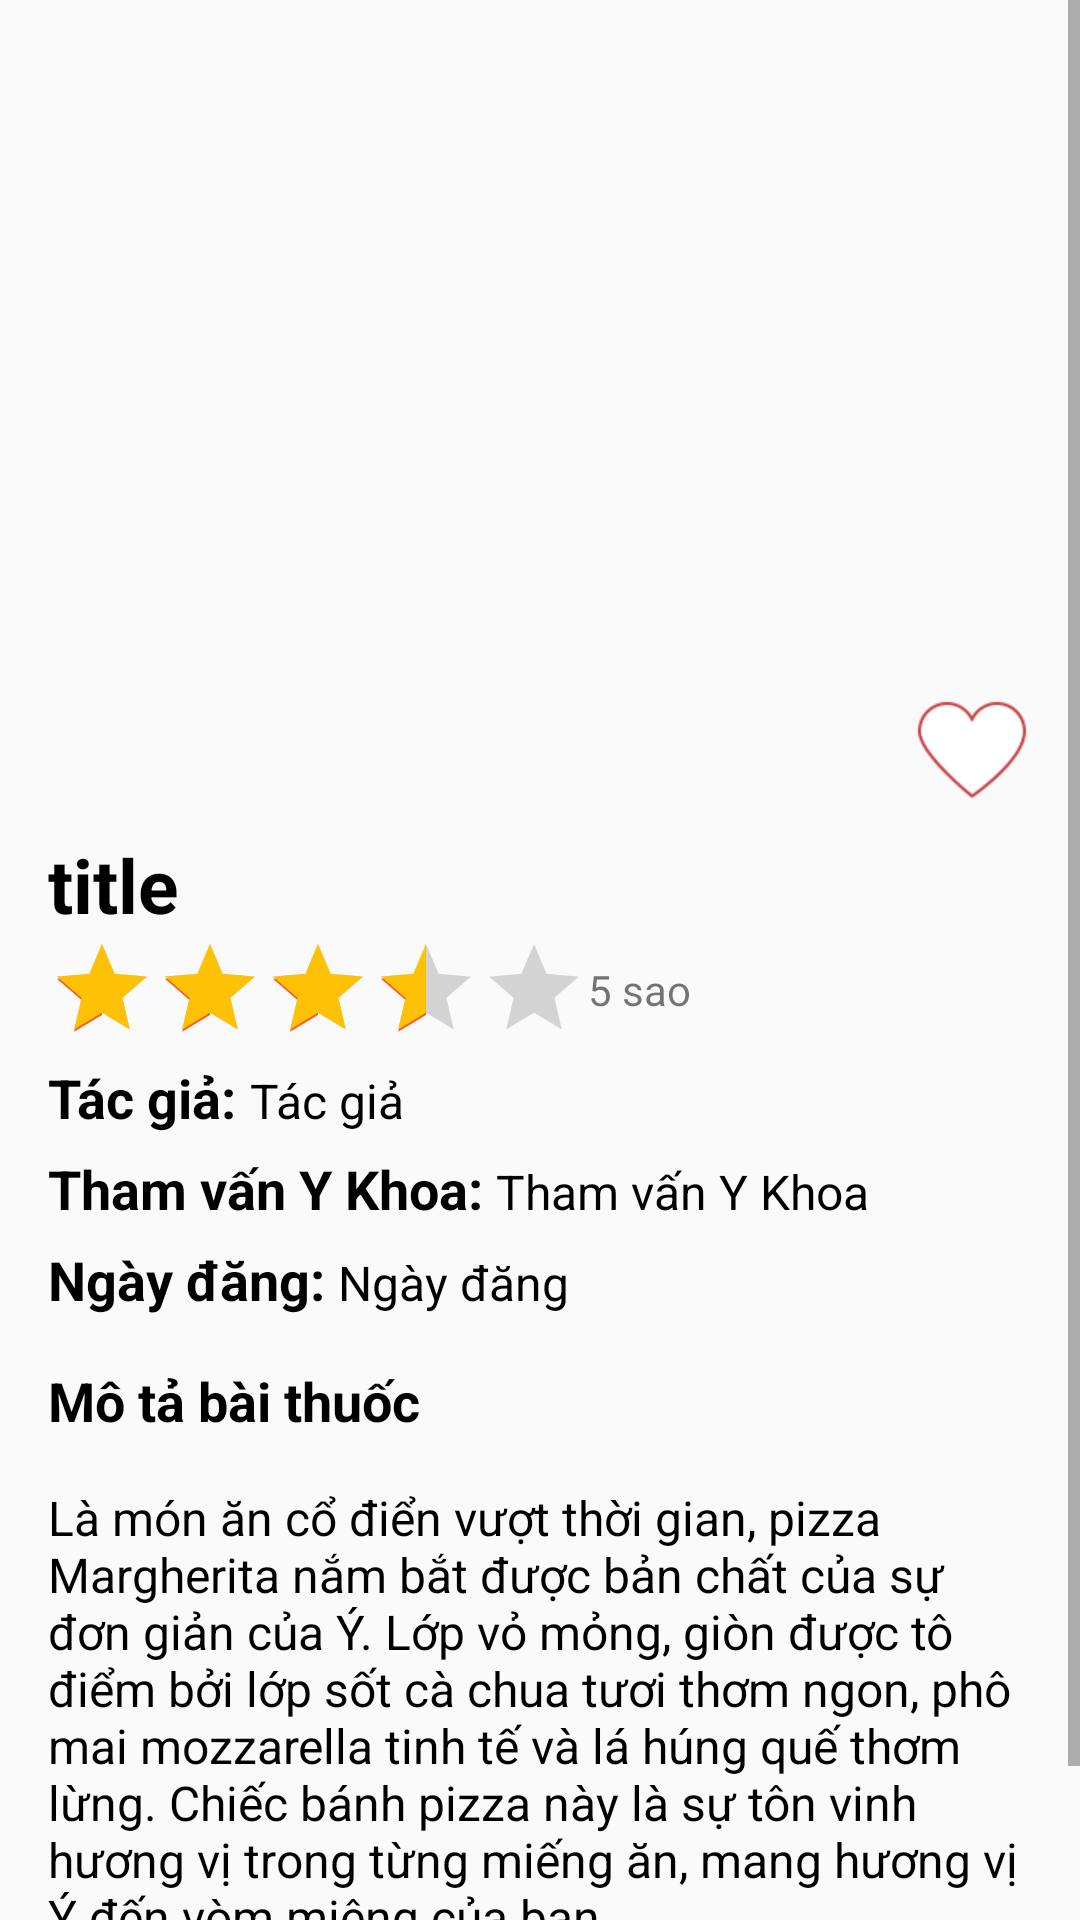

Locate icon controls on the screen. Image size 1080 × 1920, boxes as (x1, y1, x2, y2).
favorite: (917, 701, 1027, 798)
